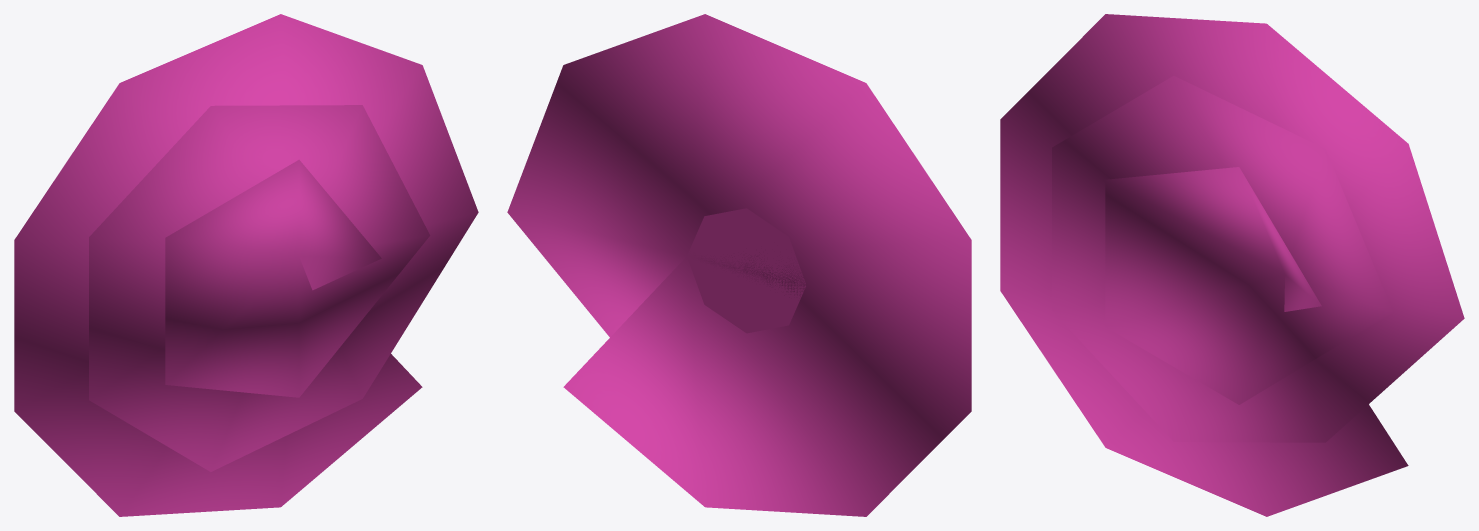
The model's file is placeholder-signature.glb.
3 renders of one model, left to right at view 1: azimuth 30°, elevation 25°; view 2: azimuth 150°, elevation 25°; view 3: azimuth 330°, elevation 25°, orthographic.
Size of the model in its own units: 2.33 by 2.36 by 0.2.
